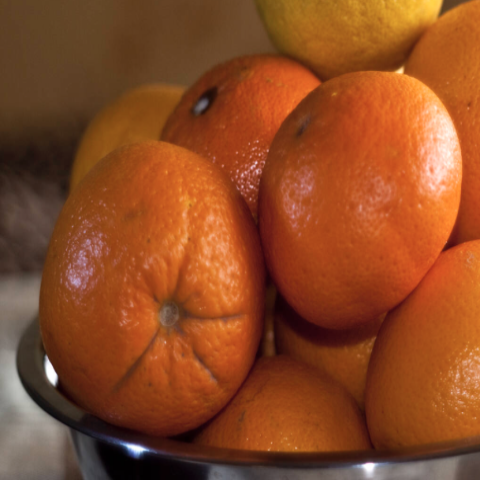orange: (27, 132, 270, 458), (238, 19, 467, 341)
